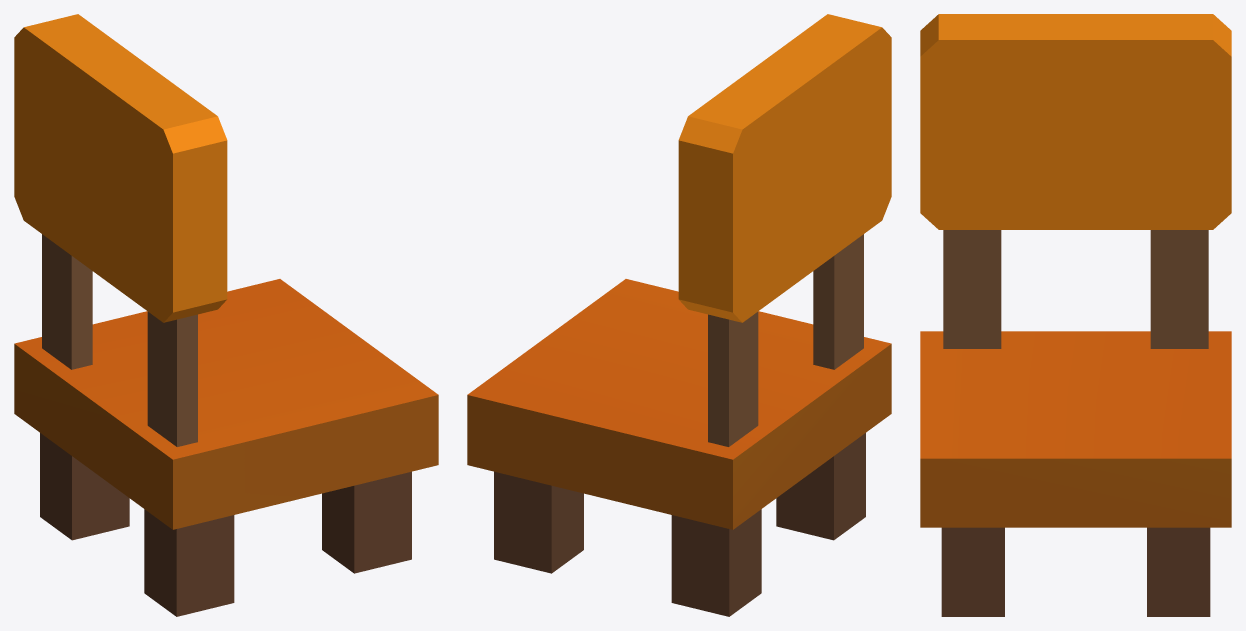
Rendered from Ghe.fbx.
3 renders of one model, left to right at view 1: azimuth 30°, elevation 25°; view 2: azimuth 150°, elevation 25°; view 3: azimuth 270°, elevation 25°, orthographic.
Visible parts, largest first — view 1: Ghe; view 2: Ghe; view 3: Ghe.
Part boxes in pixels (x1,y1,x2,y2): Ghe: [14, 14, 438, 616]; Ghe: [467, 14, 891, 616]; Ghe: [920, 14, 1231, 616].
Bounding box in the file's own units: 150 × 265 × 155.
